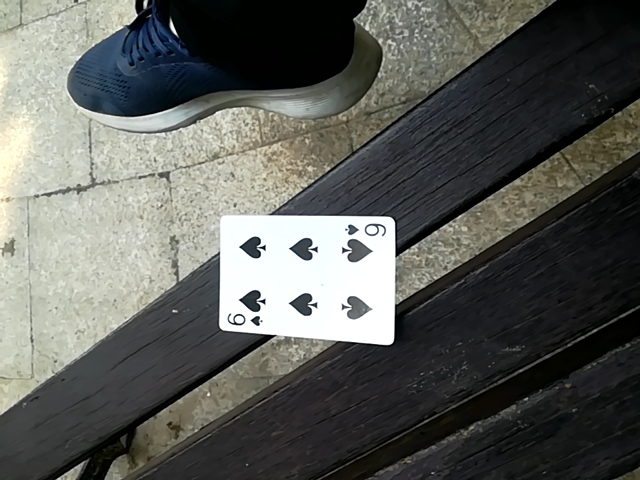ht 6: (202, 215, 386, 353)
